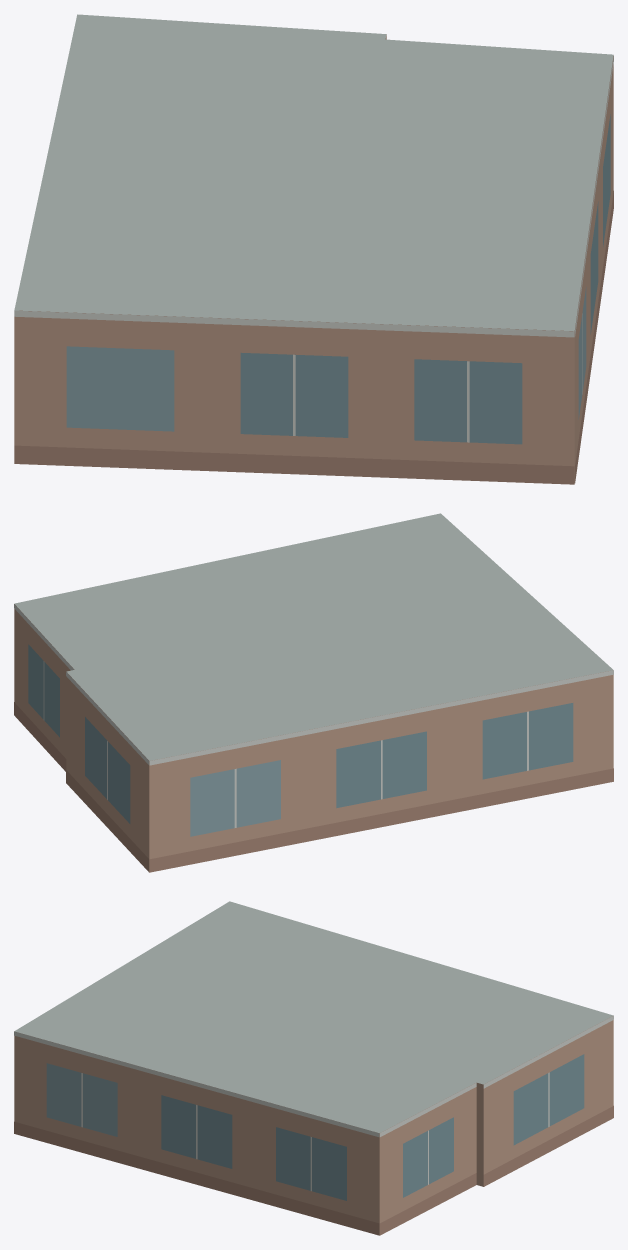
File: survey-upis-32735838.glb
3 views of the same model, one above another, from view 1: azimuth 30°, elevation 25°; view 2: azimuth 150°, elevation 25°; view 3: azimuth 270°, elevation 25° (orthographic). The views are drawn at different scales.
Visible parts, largest first — view 1: survey-upis-32735838.tmp; view 2: survey-upis-32735838.tmp; view 3: survey-upis-32735838.tmp.
Part boxes in pixels (bbox=[...]): survey-upis-32735838.tmp: bbox=[14, 14, 613, 484]; survey-upis-32735838.tmp: bbox=[14, 513, 613, 872]; survey-upis-32735838.tmp: bbox=[14, 901, 613, 1235].
Size of the model in its own units: 14.83 by 3.05 by 16.2.
